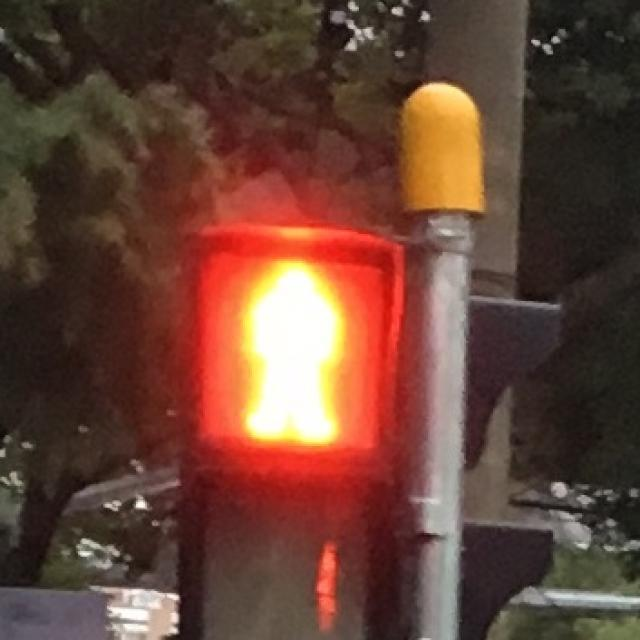red-crossing: (194, 236, 383, 458)
